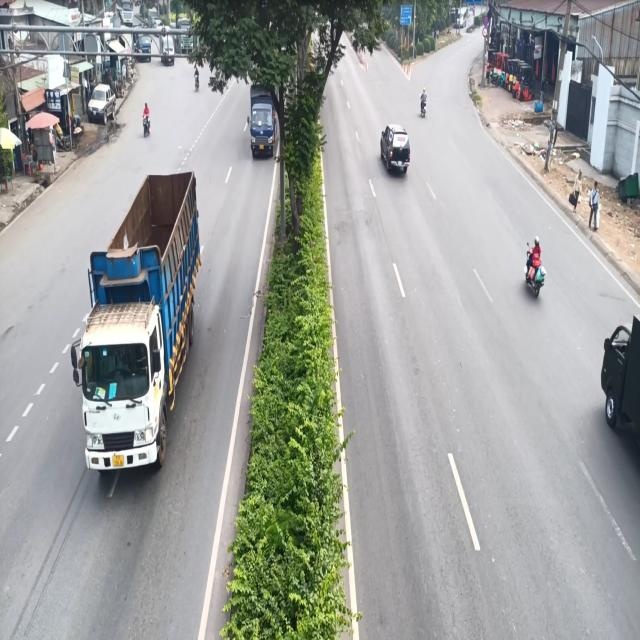car: (376, 114, 414, 180)
motor: (521, 230, 545, 303), (140, 94, 156, 140)
truck: (76, 166, 204, 500), (247, 72, 278, 168)
